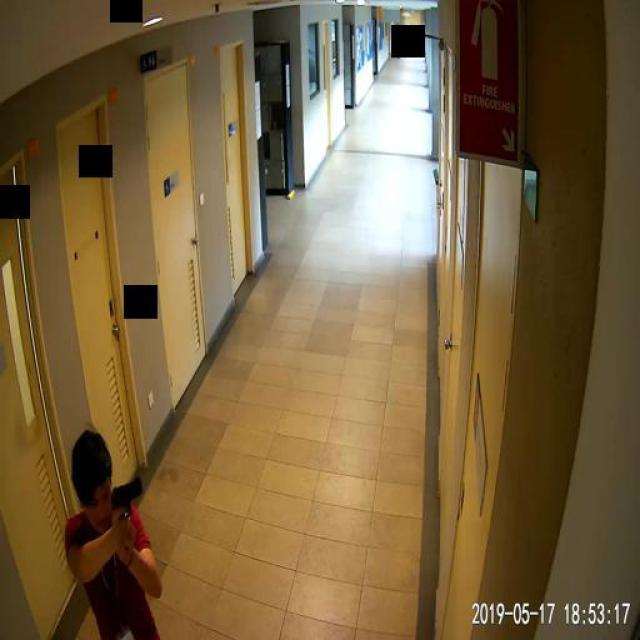gun: (110, 477, 140, 535)
